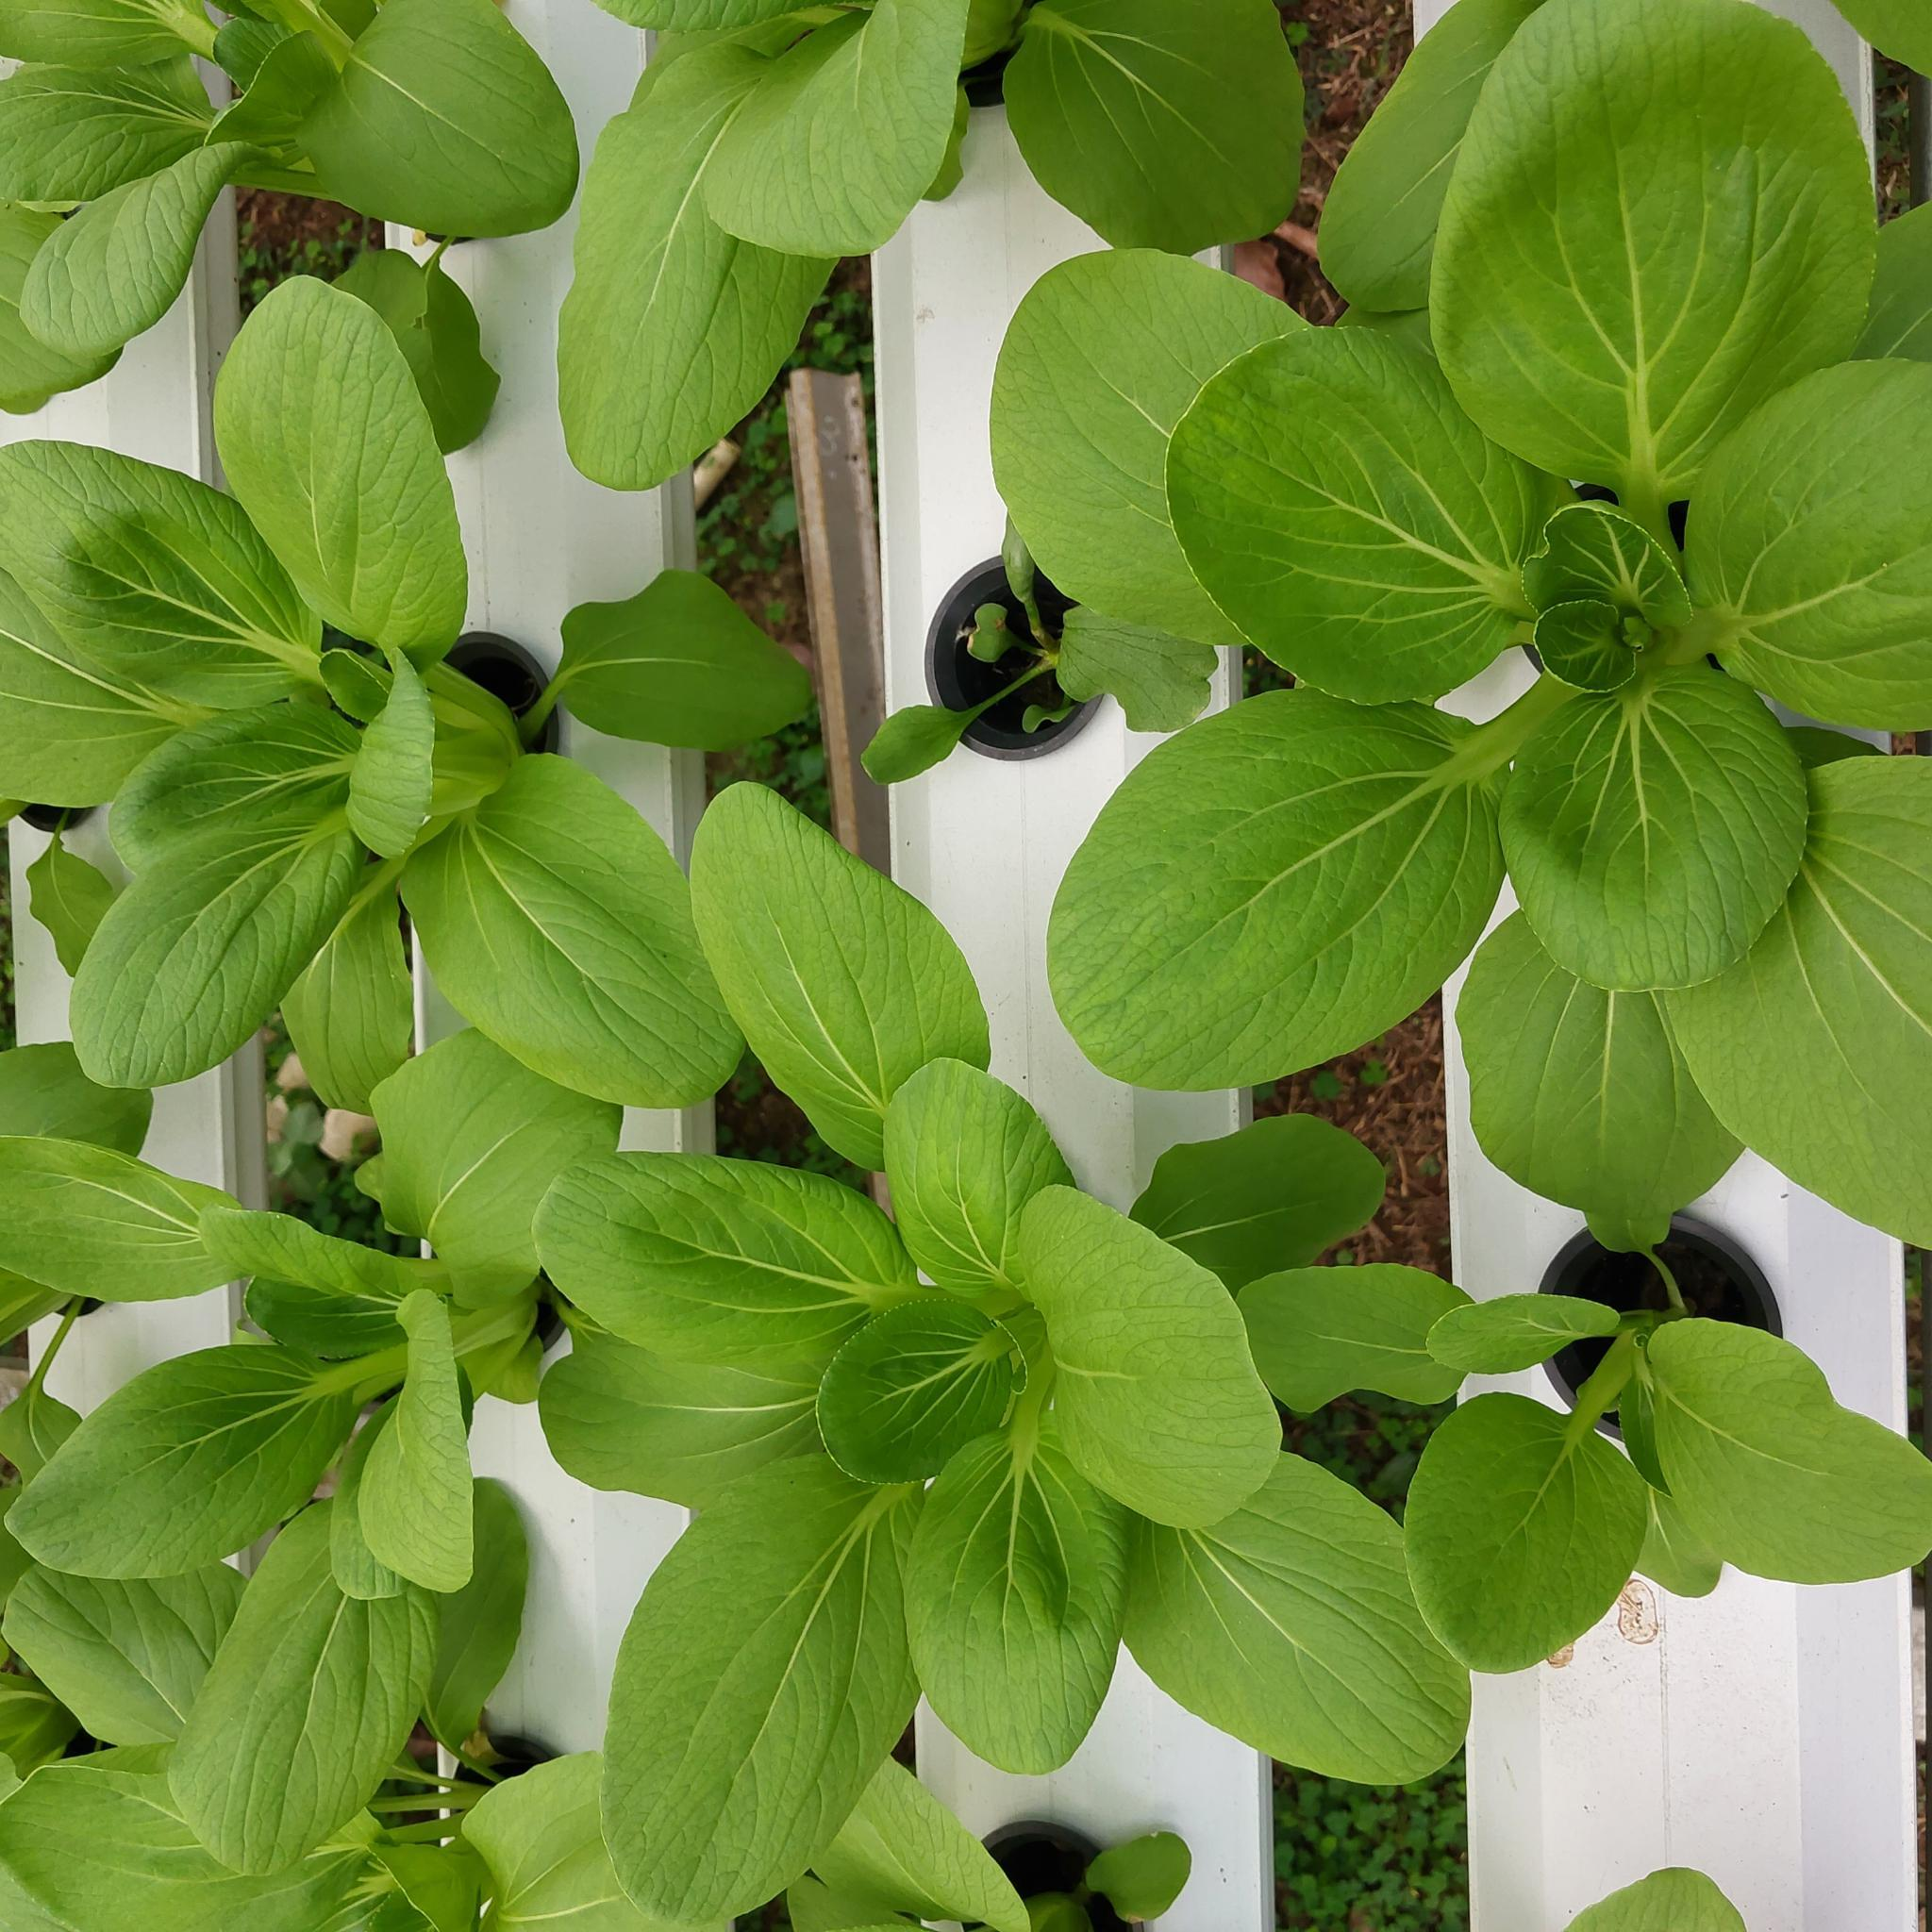Healthy-Pechay: (1424, 0, 1882, 540), (545, 1115, 982, 1509), (1178, 318, 1589, 706), (556, 21, 876, 501), (1077, 692, 1497, 1049), (603, 1447, 913, 1928), (1017, 246, 1329, 676), (2, 437, 336, 805), (1146, 1445, 1470, 1790), (1670, 352, 1932, 752), (1493, 658, 1812, 978), (212, 272, 471, 667), (2, 1327, 384, 1589), (402, 794, 725, 1102), (165, 1499, 421, 1884), (67, 757, 386, 1065), (701, 794, 970, 1118), (225, 0, 584, 241), (1468, 945, 1752, 1244), (1008, 1192, 1253, 1534), (1633, 1320, 1932, 1589), (1401, 1384, 1649, 1679), (683, 0, 959, 264), (1718, 796, 1932, 1122), (1014, 0, 1279, 257), (361, 1046, 626, 1292), (936, 1408, 1108, 1766), (16, 143, 274, 375), (518, 571, 821, 759), (2, 1555, 242, 1759), (4, 1127, 253, 1309), (1131, 1115, 1380, 1292), (0, 30, 232, 211), (0, 1760, 255, 1923), (883, 1062, 1047, 1304), (1235, 1265, 1476, 1419), (327, 239, 494, 456), (418, 1472, 533, 1771), (1276, 1762, 1461, 1927), (451, 1753, 619, 1923), (1056, 612, 1215, 731), (1286, 1391, 1433, 1514), (1424, 1295, 1629, 1380), (0, 1044, 149, 1155), (23, 842, 119, 984), (858, 702, 980, 782)
